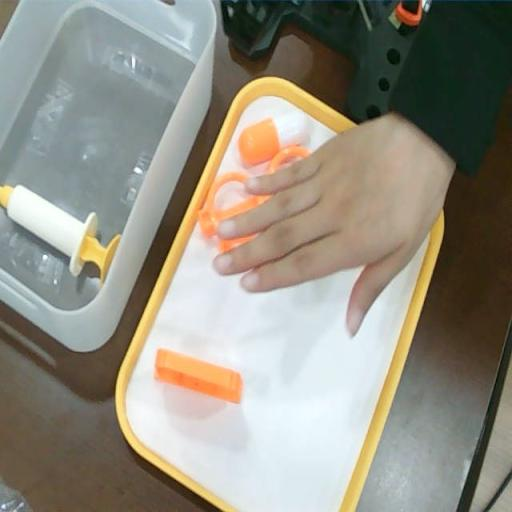hospital: (212, 125, 430, 338)
